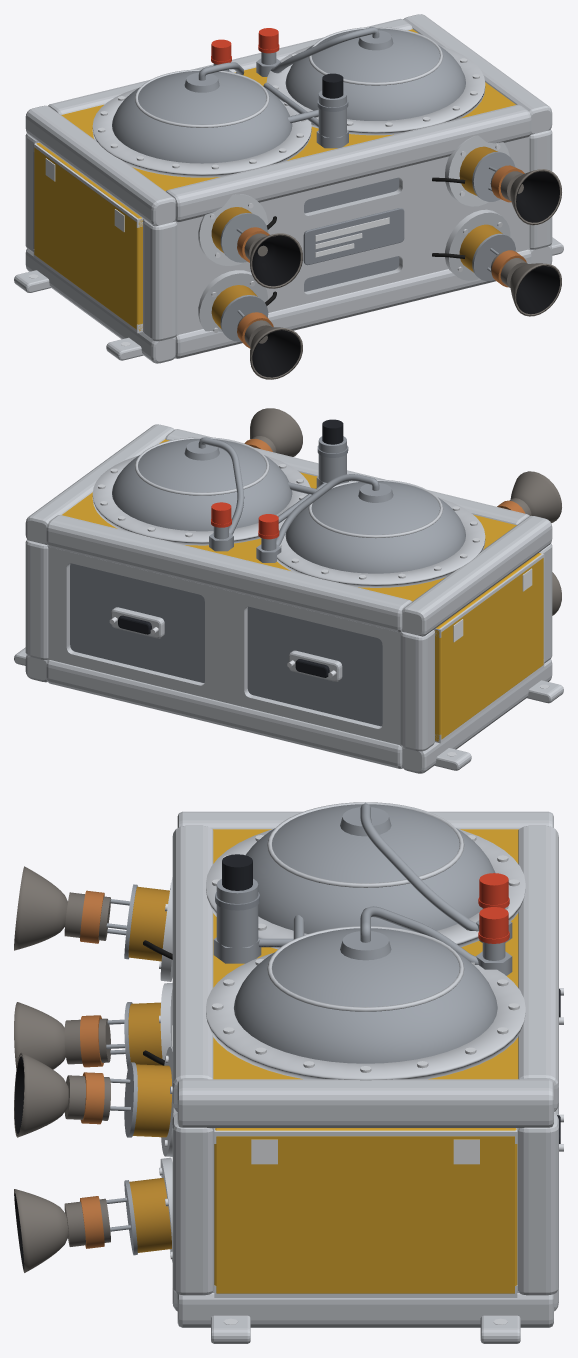
Rendered from prop-chemical-large.glb.
3 renders of one model, top to bottom at view 1: azimuth 30°, elevation 25°; view 2: azimuth 150°, elevation 25°; view 3: azimuth 270°, elevation 25°, orthographic. The views are drawn at different scales.
Visible parts, largest first — view 1: front, tank-dome-0, edge-x-11, mli-blanket--1, tank-dome-1, bell-throat (×4), edge-z--11, edge-x-10, boss (×4), valve-cap (×4), dome-flange-0, edge-y--11 (+24 smaller); view 2: core, back, edge-x--11, mli-blanket--1, tank-dome-0, tank-dome-1, edge-x--10, edge-z--11, edge-y--1-1, dome-flange-0, bell-bell (×2), dome-flange-1 (+20 smaller); view 3: mli-blanket-1, tank-dome-1, tank-dome-0, edge-z-11, bell-bell (×4), edge-z-10, edge-x-11, edge-x--11, dome-flange-1, valve (×4), edge-y-11, edge-y-1-1 (+25 smaller).
Boxes of the visible parts, x1,y1,x2,y2 form: front: (175,135,530,336); tank-dome-0: (112,70,292,163); edge-x-11: (166,104,531,222); mli-blanket--1: (34,143,142,331); tank-dome-1: (285,28,465,120); bell-throat (×4): (252,171,559,377); edge-z--11: (25,105,175,226); edge-x-10: (175,249,531,358); boss (×4): (198,135,510,331); valve-cap (×4): (220,151,515,341); dome-flange-0: (92,88,311,177); edge-y--11: (143,219,177,341); core: (70,563,382,726); back: (47,545,401,746); edge-x--11: (46,515,412,632); mli-blanket--1: (435,553,543,741); tank-dome-0: (285,481,465,573); tank-dome-1: (112,438,292,531); edge-x--10: (46,660,402,768); edge-z--11: (402,516,552,636); edge-y--1-1: (400,630,434,751); dome-flange-0: (277,498,485,587); bell-bell (×2): (250,408,561,522); dome-flange-1: (92,455,310,545); mli-blanket-1: (214,1128,517,1293); tank-dome-1: (234,928,497,1063); tank-dome-0: (246,804,495,933); edge-z-11: (177,1079,553,1128); bell-bell (×4): (14,866,68,1272); edge-z-10: (177,1293,553,1327); edge-x-11: (172,825,213,1111); edge-x--11: (518,825,558,1111); dome-flange-1: (206,953,525,1080); valve (×4): (128,886,171,1252); edge-y-11: (172,1113,213,1295); edge-y-1-1: (518,1113,558,1295).
Bounding box in the file's own units: 0.2258 × 0.1087 × 0.1651.
